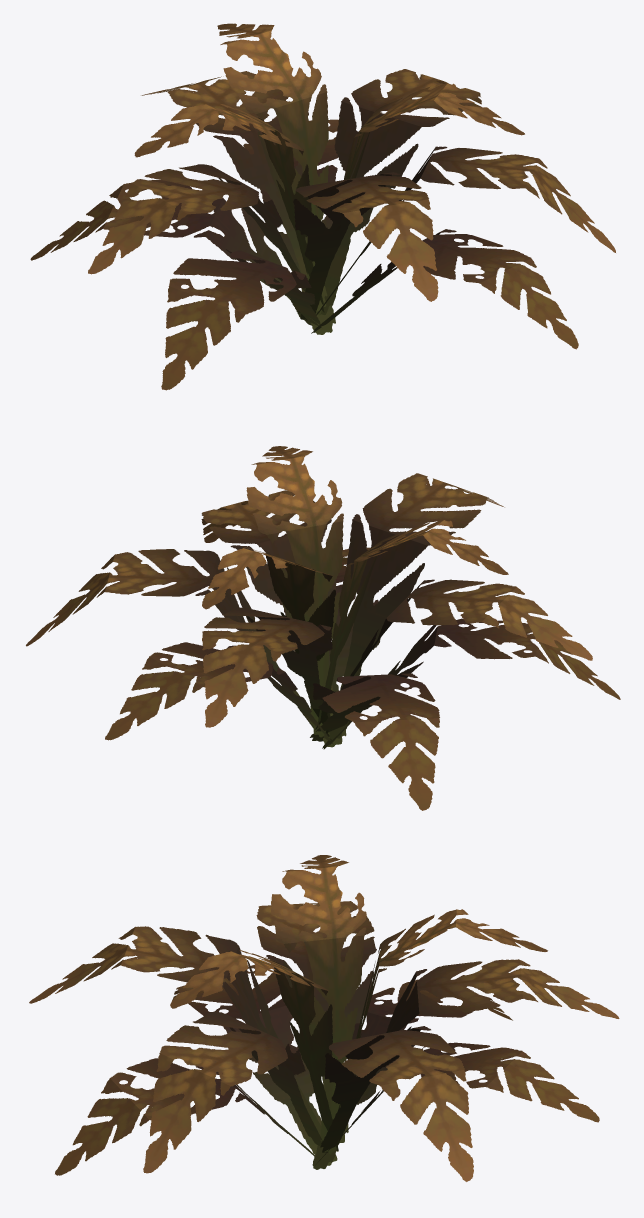
File: broadleaf_dead_02.fbx
3 views of the same model, one above another, from view 1: azimuth 30°, elevation 25°; view 2: azimuth 150°, elevation 25°; view 3: azimuth 270°, elevation 25° (orthographic). The views are drawn at different scales.
Visible parts, largest first — view 1: obj0.258; view 2: obj0.258; view 3: obj0.258.
Boxes of the visible parts, x1=… form: obj0.258: x1=30, y1=23, x2=615, y2=390; obj0.258: x1=26, y1=446, x2=620, y2=810; obj0.258: x1=29, y1=855, x2=619, y2=1181.
Size of the model in its own units: 2.95 by 1.35 by 2.94.
